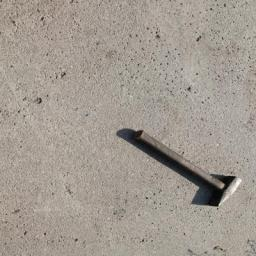FOD: (116, 128, 244, 211)
